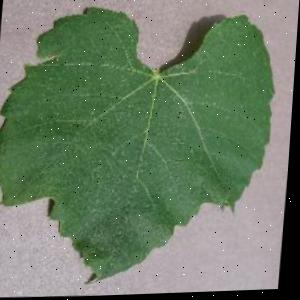Folha: (0, 0, 284, 292)
